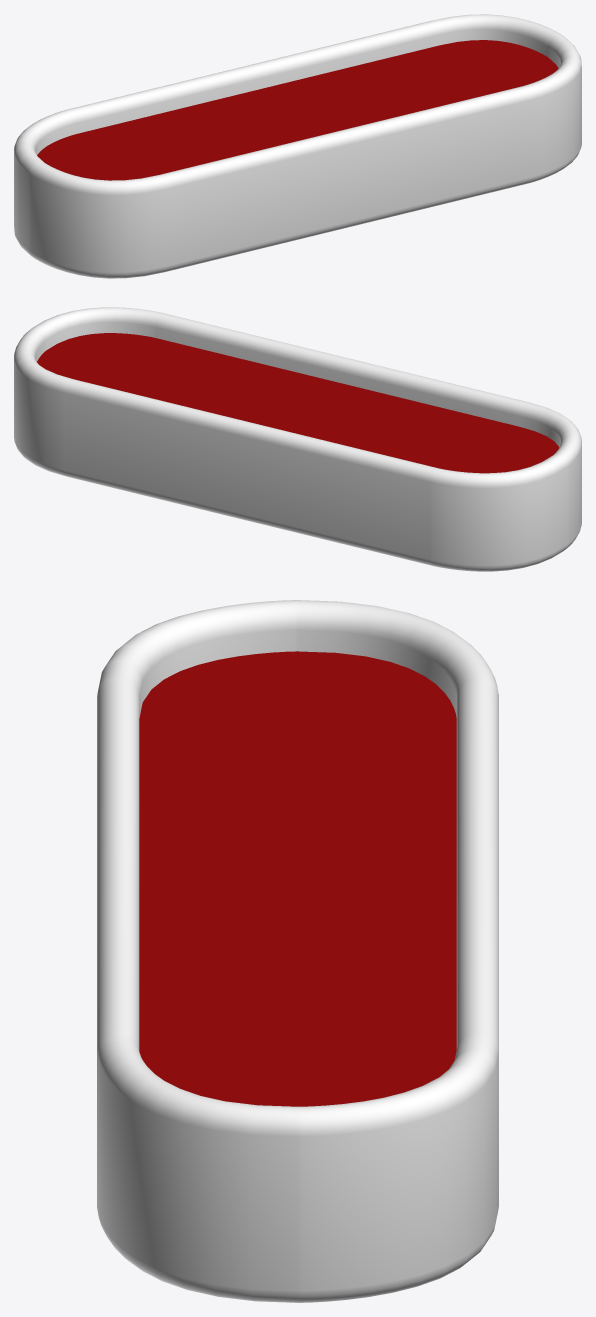
Rendered from Paddle-4.dae.
3 views of the same model, one above another, from view 1: azimuth 30°, elevation 25°; view 2: azimuth 150°, elevation 25°; view 3: azimuth 270°, elevation 25° (orthographic). The views are drawn at different scales.
Parts seen in each view (by area): view 1: Paddle; view 2: Paddle; view 3: Paddle.
Part boxes in pixels (<box>): Paddle: <box>14,14,581,278</box>; Paddle: <box>14,307,581,571</box>; Paddle: <box>97,600,498,1302</box>.
Bounding box in the file's own units: 0.2922 × 0.05 × 0.0946.
